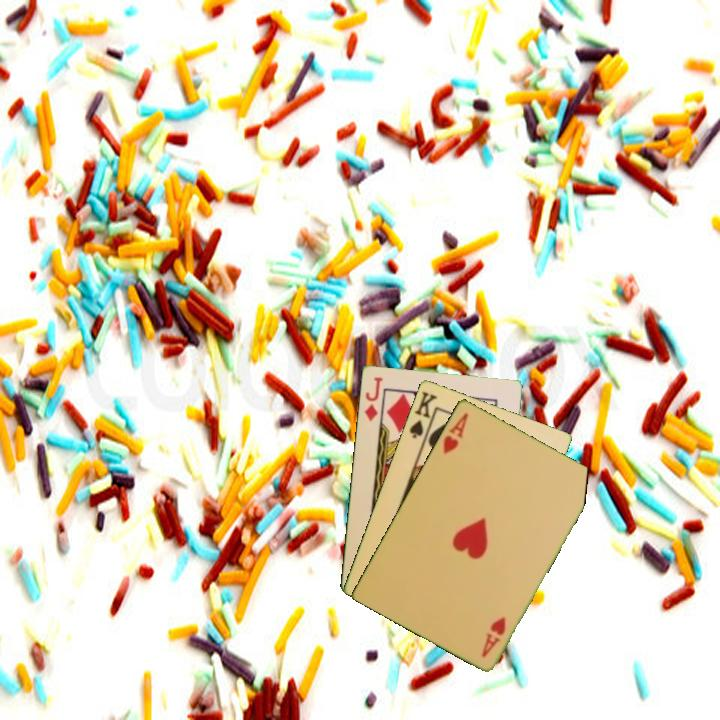Ah: (439, 409, 471, 457), (478, 613, 509, 660)
Jd: (360, 373, 385, 424)
Ks: (406, 387, 440, 444)
